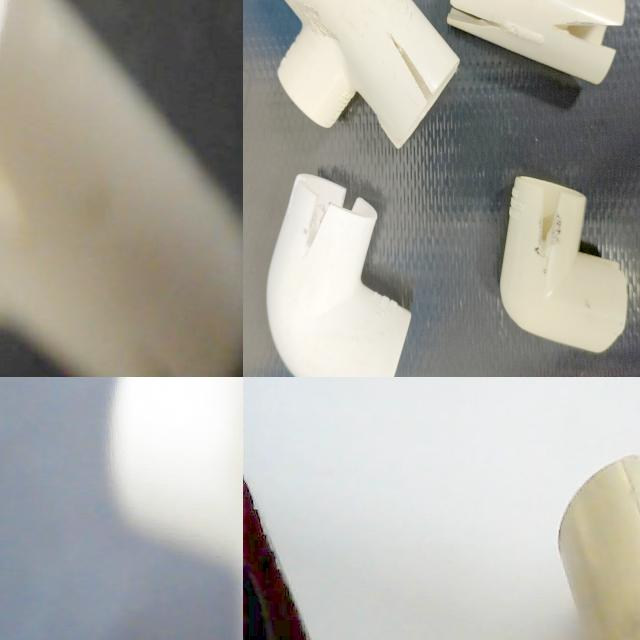Defective: (494, 270, 546, 356), (117, 330, 208, 377), (388, 128, 436, 198), (496, 269, 538, 343), (395, 129, 432, 186), (536, 233, 566, 303), (325, 196, 383, 230), (250, 263, 275, 338), (492, 185, 528, 233), (254, 264, 275, 338), (261, 0, 291, 48), (320, 204, 377, 228), (243, 175, 267, 214), (541, 237, 561, 281), (269, 0, 290, 41), (495, 0, 521, 33), (493, 0, 518, 28), (243, 187, 268, 212), (466, 18, 488, 42), (470, 19, 485, 39)
L Joint: (243, 0, 323, 58)
T Joint: (365, 81, 564, 351), (243, 149, 379, 339)
